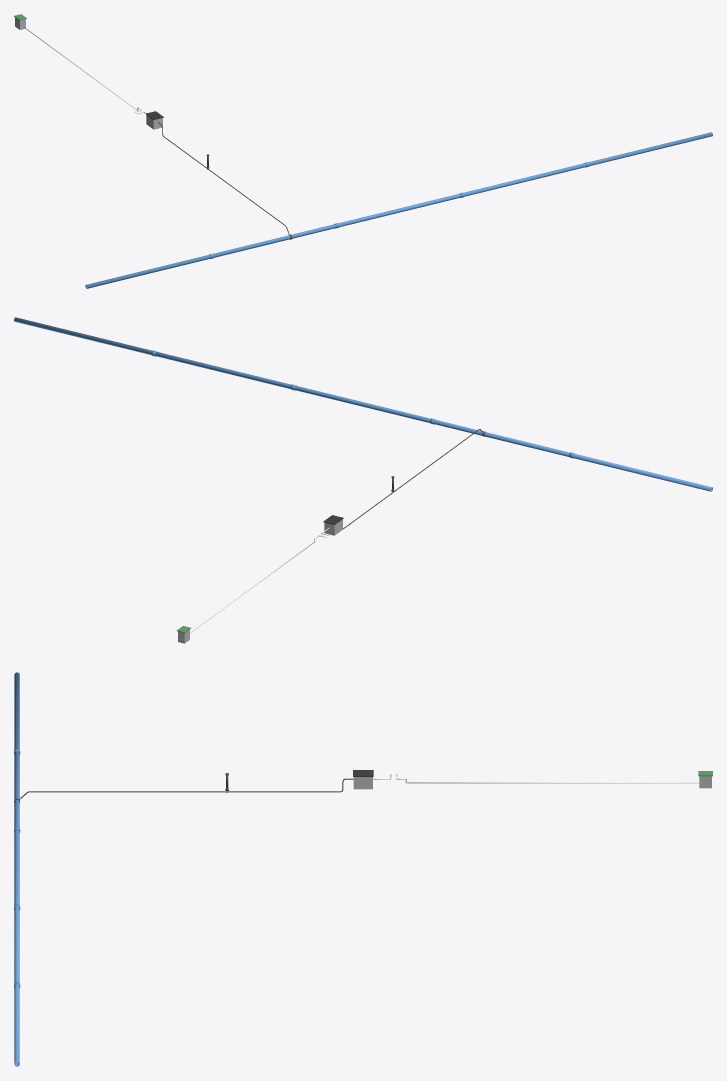
The model's file is slab_pipes_supply__water-city_filter.glb.
The picture shows the model from 3 angles, top to bottom: view 1: azimuth 30°, elevation 25°; view 2: azimuth 150°, elevation 25°; view 3: azimuth 270°, elevation 25°; orthographic projection. The views are drawn at different scales.
Visible parts, largest first — view 1: city_water_main; view 2: city_water_main; view 3: city_water_main.
Part boxes in pixels (bbox=[...]): city_water_main: bbox=[85, 132, 712, 288]; city_water_main: bbox=[14, 317, 712, 491]; city_water_main: bbox=[14, 672, 20, 1066].
Size of the model in its own units: 30.48 by 1.15 by 23.12.
